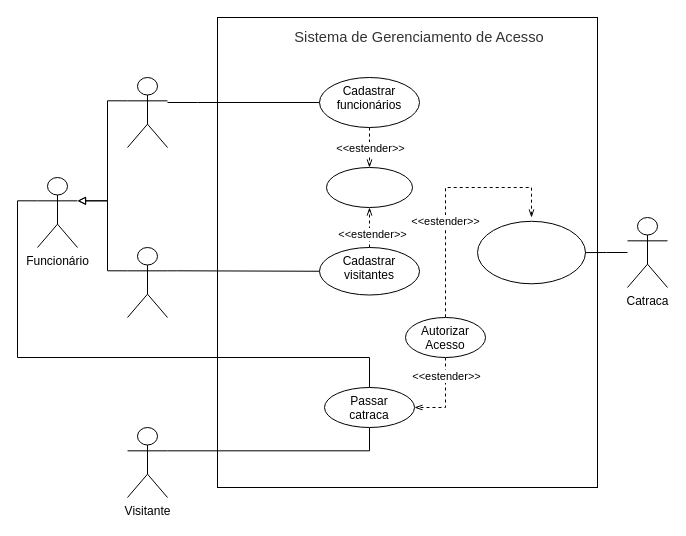
The diagram is 686 pixels wide and 536 high, and some of its shapes have lost their labels. Each missing label, with the centre of its shape:
"Gerente" goes at pixel 147 112.
"Porteiro" goes at pixel 147 282.
"Registrar códigos dos crachás" goes at pixel 531 252.
"Validar cadastro" goes at pixel 369 187.
